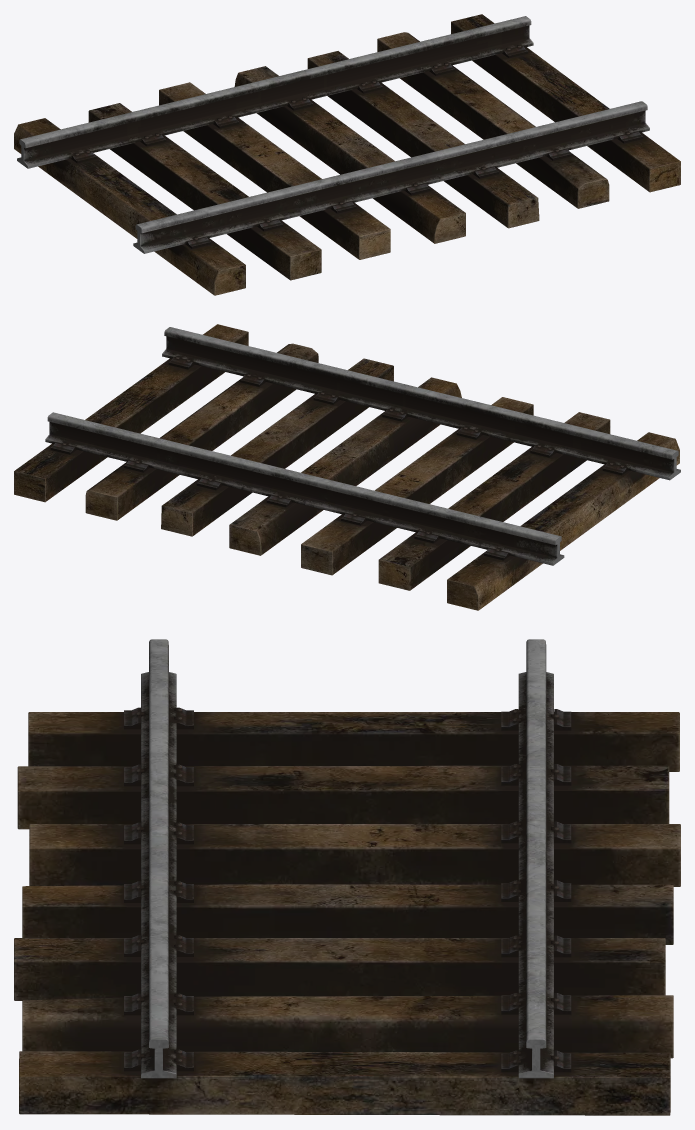
File: railway.glb
3 views of the same model, one above another, from view 1: azimuth 30°, elevation 25°; view 2: azimuth 150°, elevation 25°; view 3: azimuth 270°, elevation 25° (orthographic). The views are drawn at different scales.
Parts seen in each view (by area): view 1: railroad_gav_railroad_gav_0; view 2: railroad_gav_railroad_gav_0; view 3: railroad_gav_railroad_gav_0.
Part boxes in pixels (x1,y1,x2,y2): railroad_gav_railroad_gav_0: (14,14,680,295); railroad_gav_railroad_gav_0: (14,324,680,610); railroad_gav_railroad_gav_0: (14,639,680,1115).
Bounding box in the file's own units: 4 × 0.3716 × 2.82.
1 material, 1 textured.
